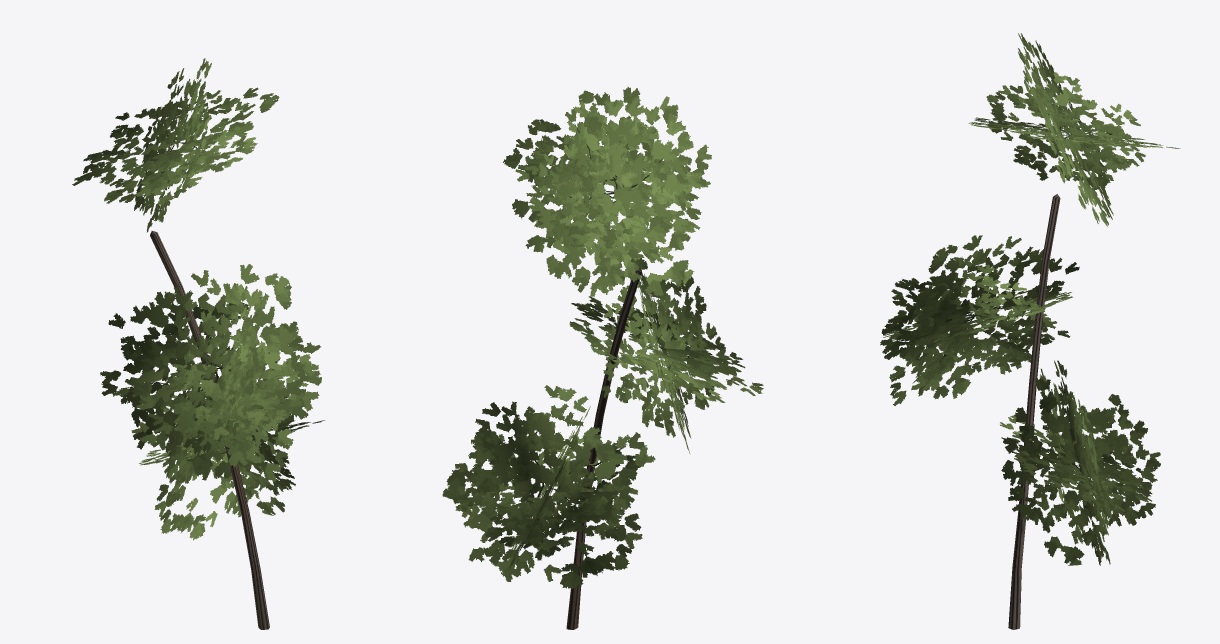
Rendered from seedling-a.lod0.glb.
3 views of the same model, side by side, from view 1: azimuth 30°, elevation 25°; view 2: azimuth 150°, elevation 25°; view 3: azimuth 270°, elevation 25° (orthographic). The views are drawn at different scales.
Visible parts, largest first — view 1: foliage, bark; view 2: foliage, bark; view 3: foliage, bark.
Part boxes in pixels (x1,y1,x2,y2): foliage: (72, 58, 324, 540); bark: (150, 231, 269, 629); foliage: (442, 87, 763, 588); bark: (566, 268, 641, 629); foliage: (880, 33, 1180, 565); bark: (1008, 194, 1060, 629).
Bounding box in the file's own units: 0.1936 × 0.35 × 0.2082.
2 materials, 2 textured.
